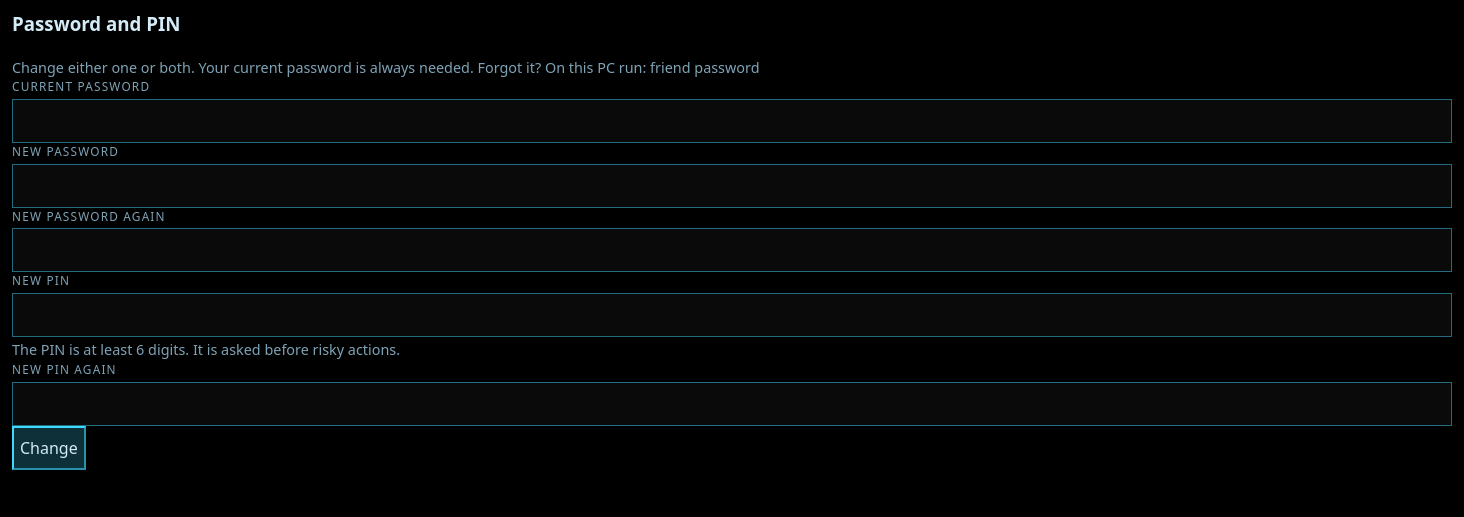
Test case: <SecurityTab> › checks the entries before sending anything
Click the button "Change".
click(49, 448)  # box x1=12 y1=426 x2=86 y2=470
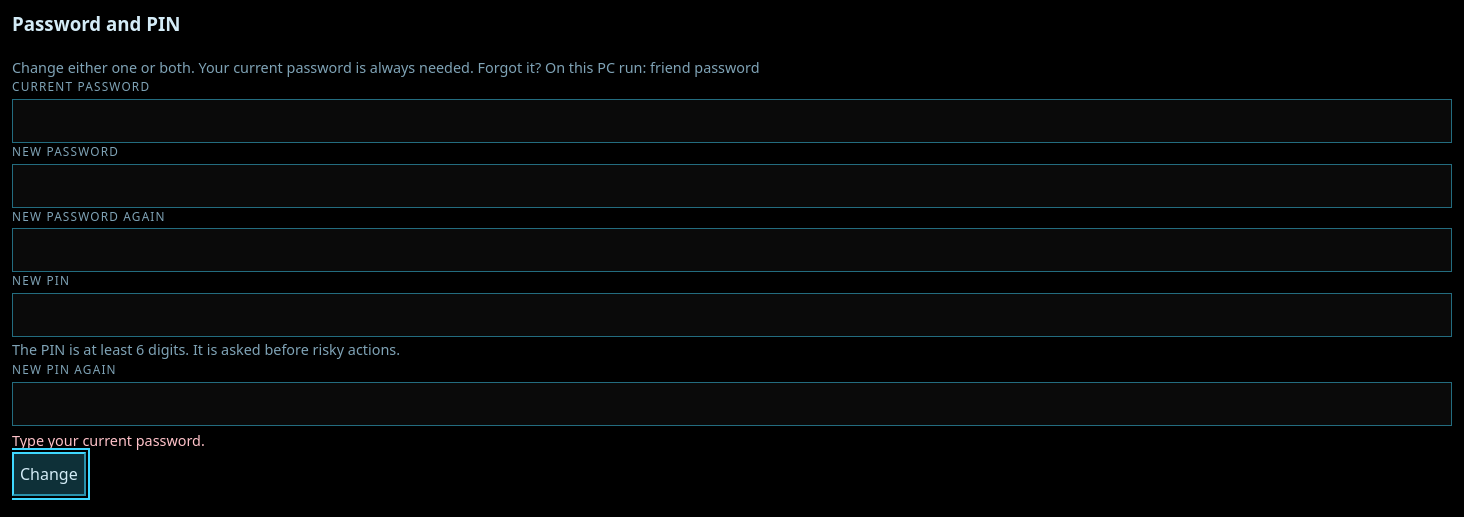
expect the message shows "current password": met, box x1=12 y1=431 x2=205 y2=450
Type "old" into the password field labelled "Current password".
click(732, 121); type("old")  # box x1=12 y1=99 x2=1452 y2=143
Click the button "Change".
click(49, 474)  # box x1=12 y1=452 x2=86 y2=496
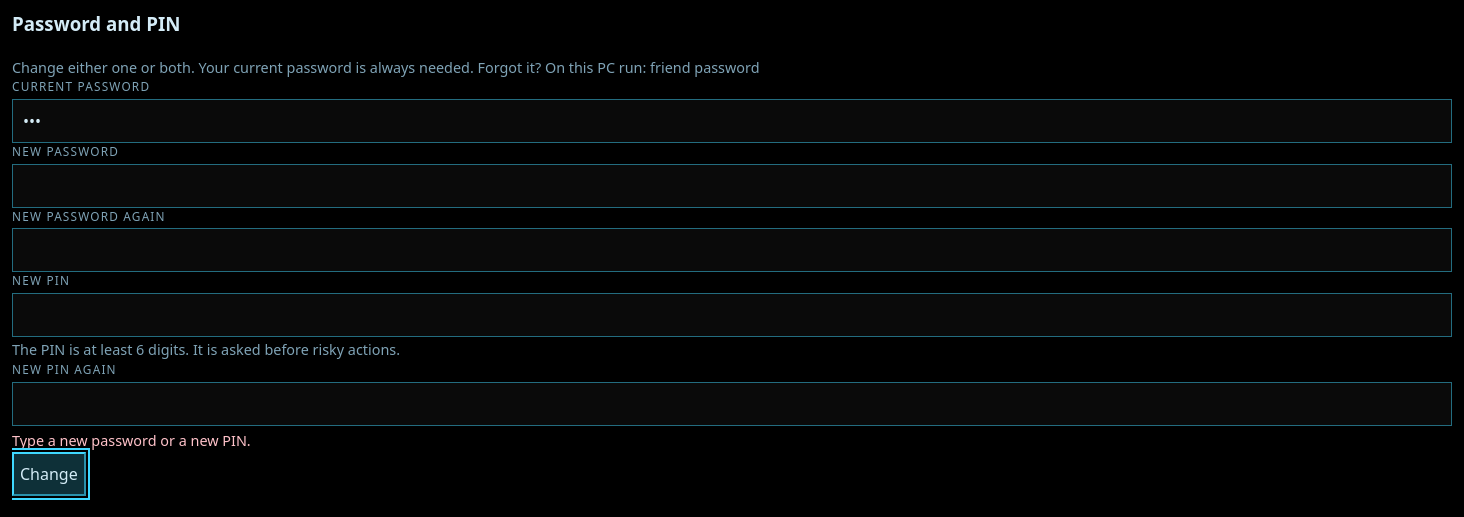
expect the message shows "new password or a new PIN": met, box x1=12 y1=431 x2=251 y2=450
Type "short" into the password field labelled "New password".
click(732, 186); type("short")  # box x1=12 y1=164 x2=1452 y2=208
Click the button "Change".
click(49, 474)  # box x1=12 y1=452 x2=86 y2=496
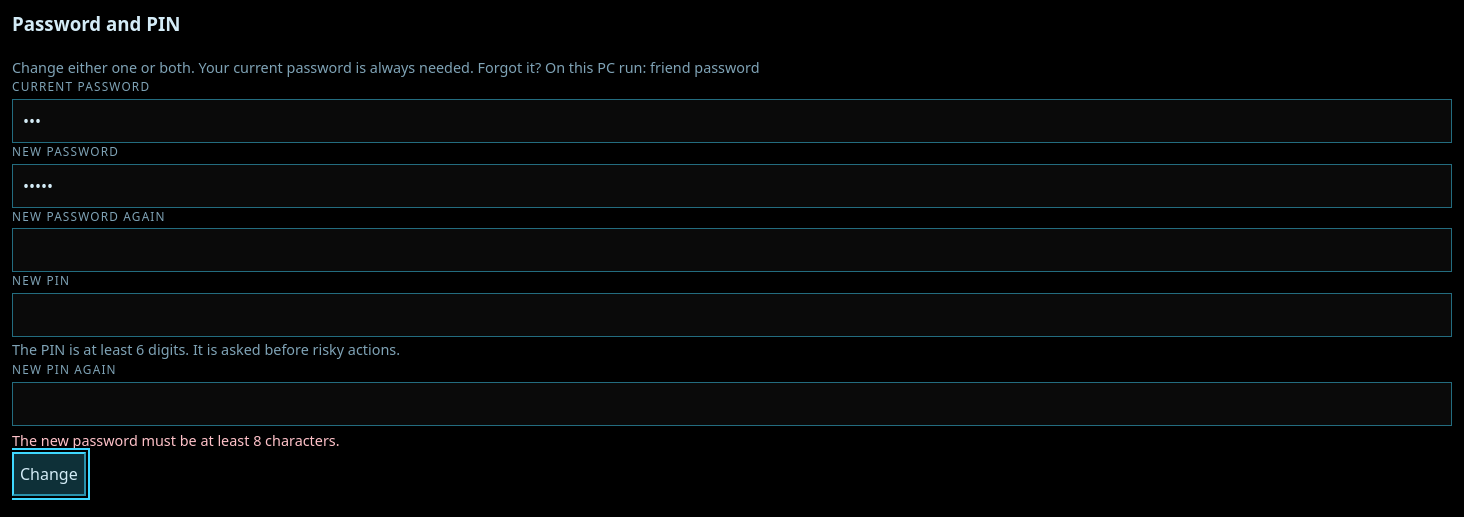
expect the message shows "at least 8": met, box x1=12 y1=431 x2=340 y2=450
Type "long enough pw" into the password field labelled "New password".
click(732, 186); type("long enough pw")  # box x1=12 y1=164 x2=1452 y2=208
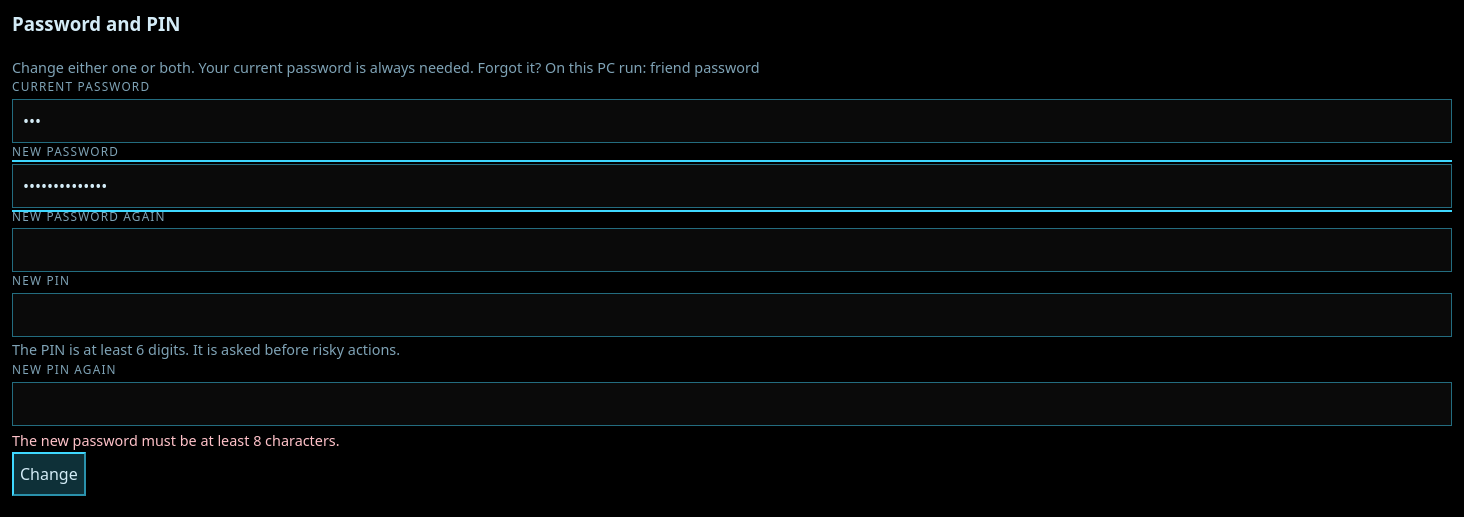
Type "different pw" into the password field labelled "New password again".
click(732, 250); type("different pw")  # box x1=12 y1=228 x2=1452 y2=272
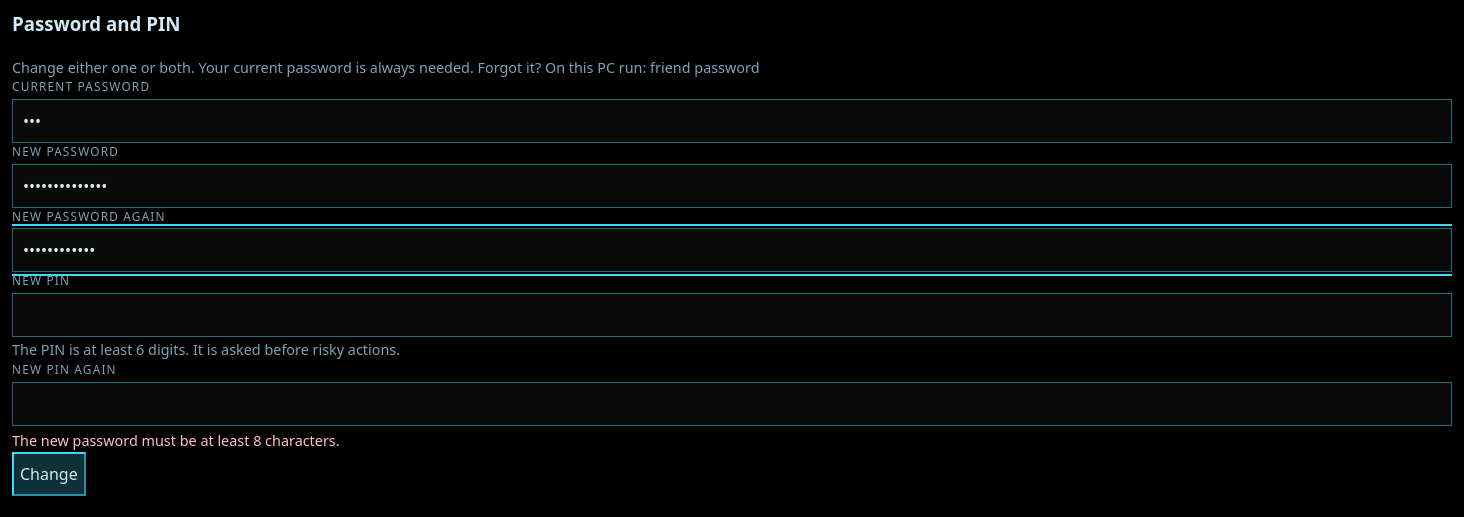
Click the button "Change".
click(49, 474)  # box x1=12 y1=452 x2=86 y2=496
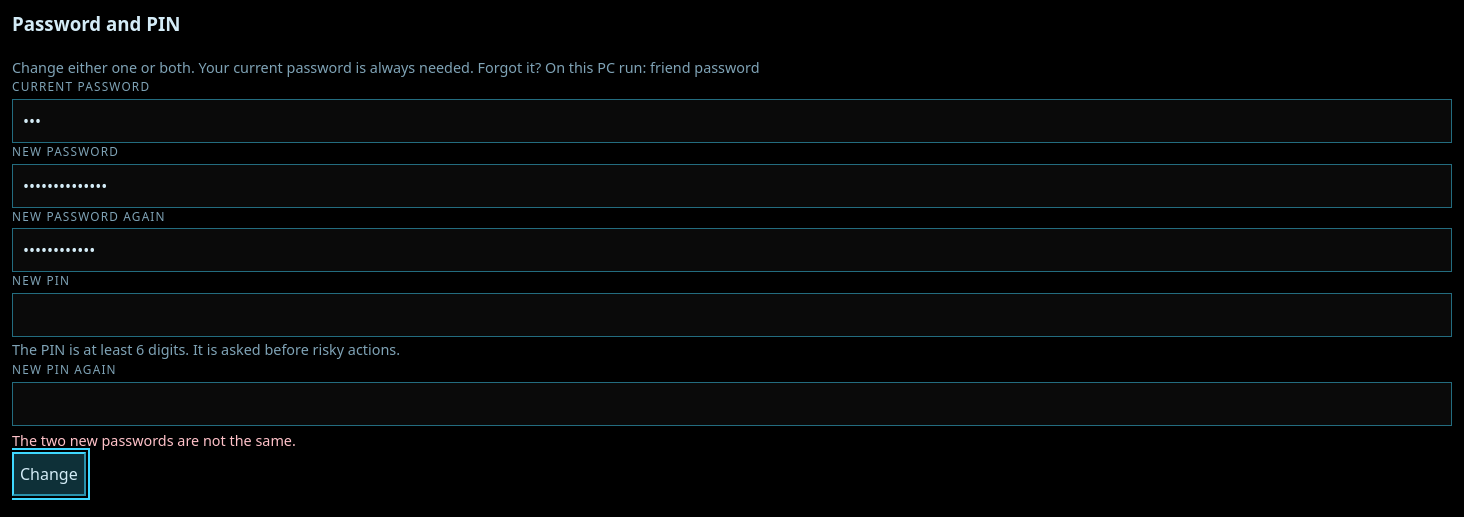
expect the message shows "not the same": met, box x1=12 y1=431 x2=296 y2=450
